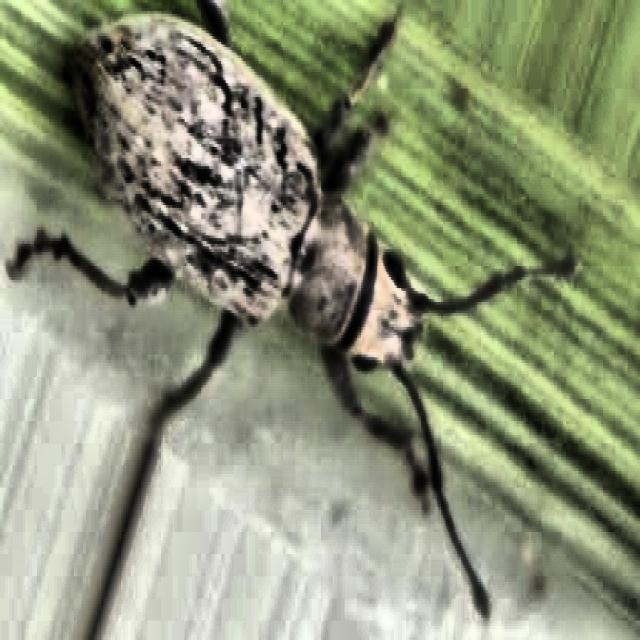Stink bug: (49, 0, 568, 554)
